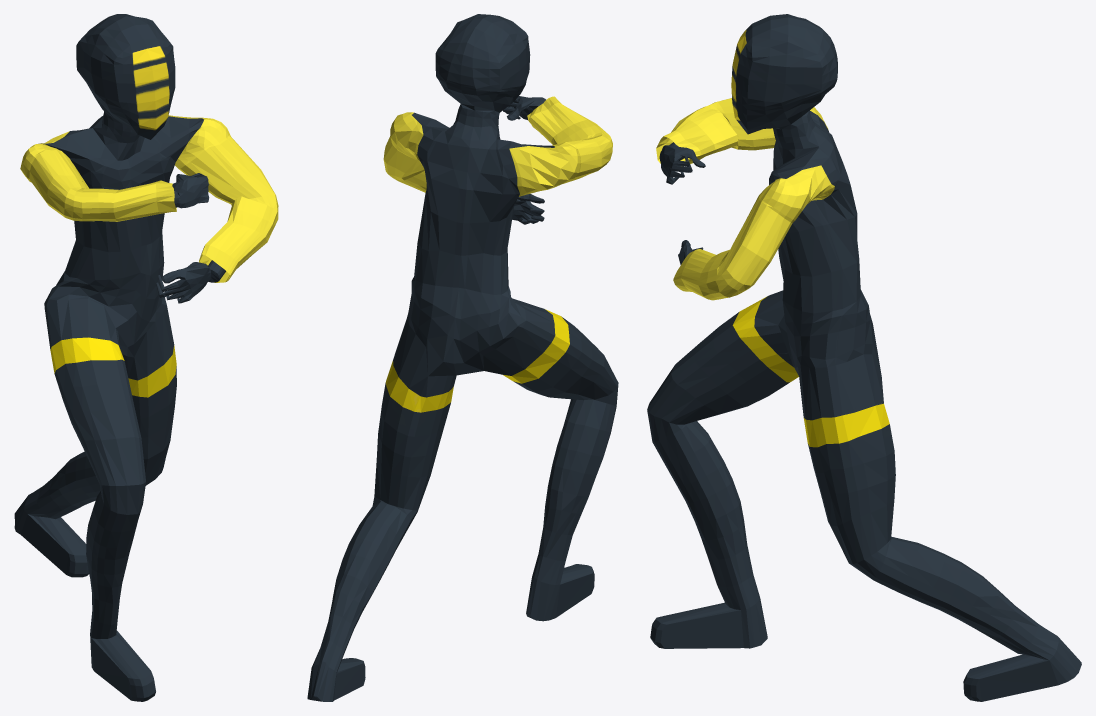
The model's file is Sentry_Hit_Stun_000009.obj.
3 renders of one model, left to right at view 1: azimuth 30°, elevation 25°; view 2: azimuth 150°, elevation 25°; view 3: azimuth 270°, elevation 25°, orthographic. The views are drawn at different scales.
Visible parts, largest first — view 1: Cube; view 2: Cube; view 3: Cube.
Part boxes in pixels (x1,y1,x2,y2): Cube: (14,14,278,701); Cube: (307,14,618,701); Cube: (647,14,1081,701).
Bounding box in the file's own units: 1.29 × 3.48 × 2.08.
